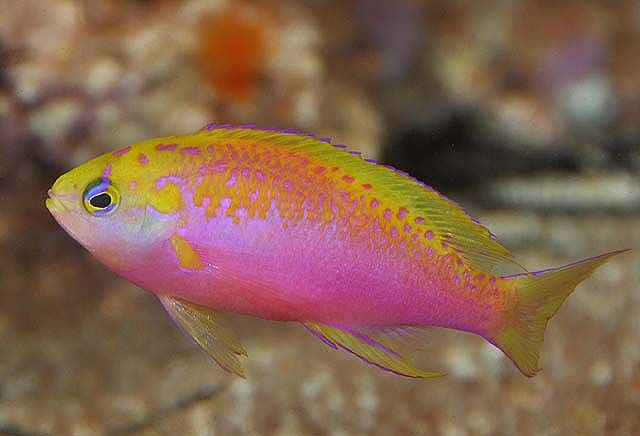fish: (45, 123, 632, 379)
